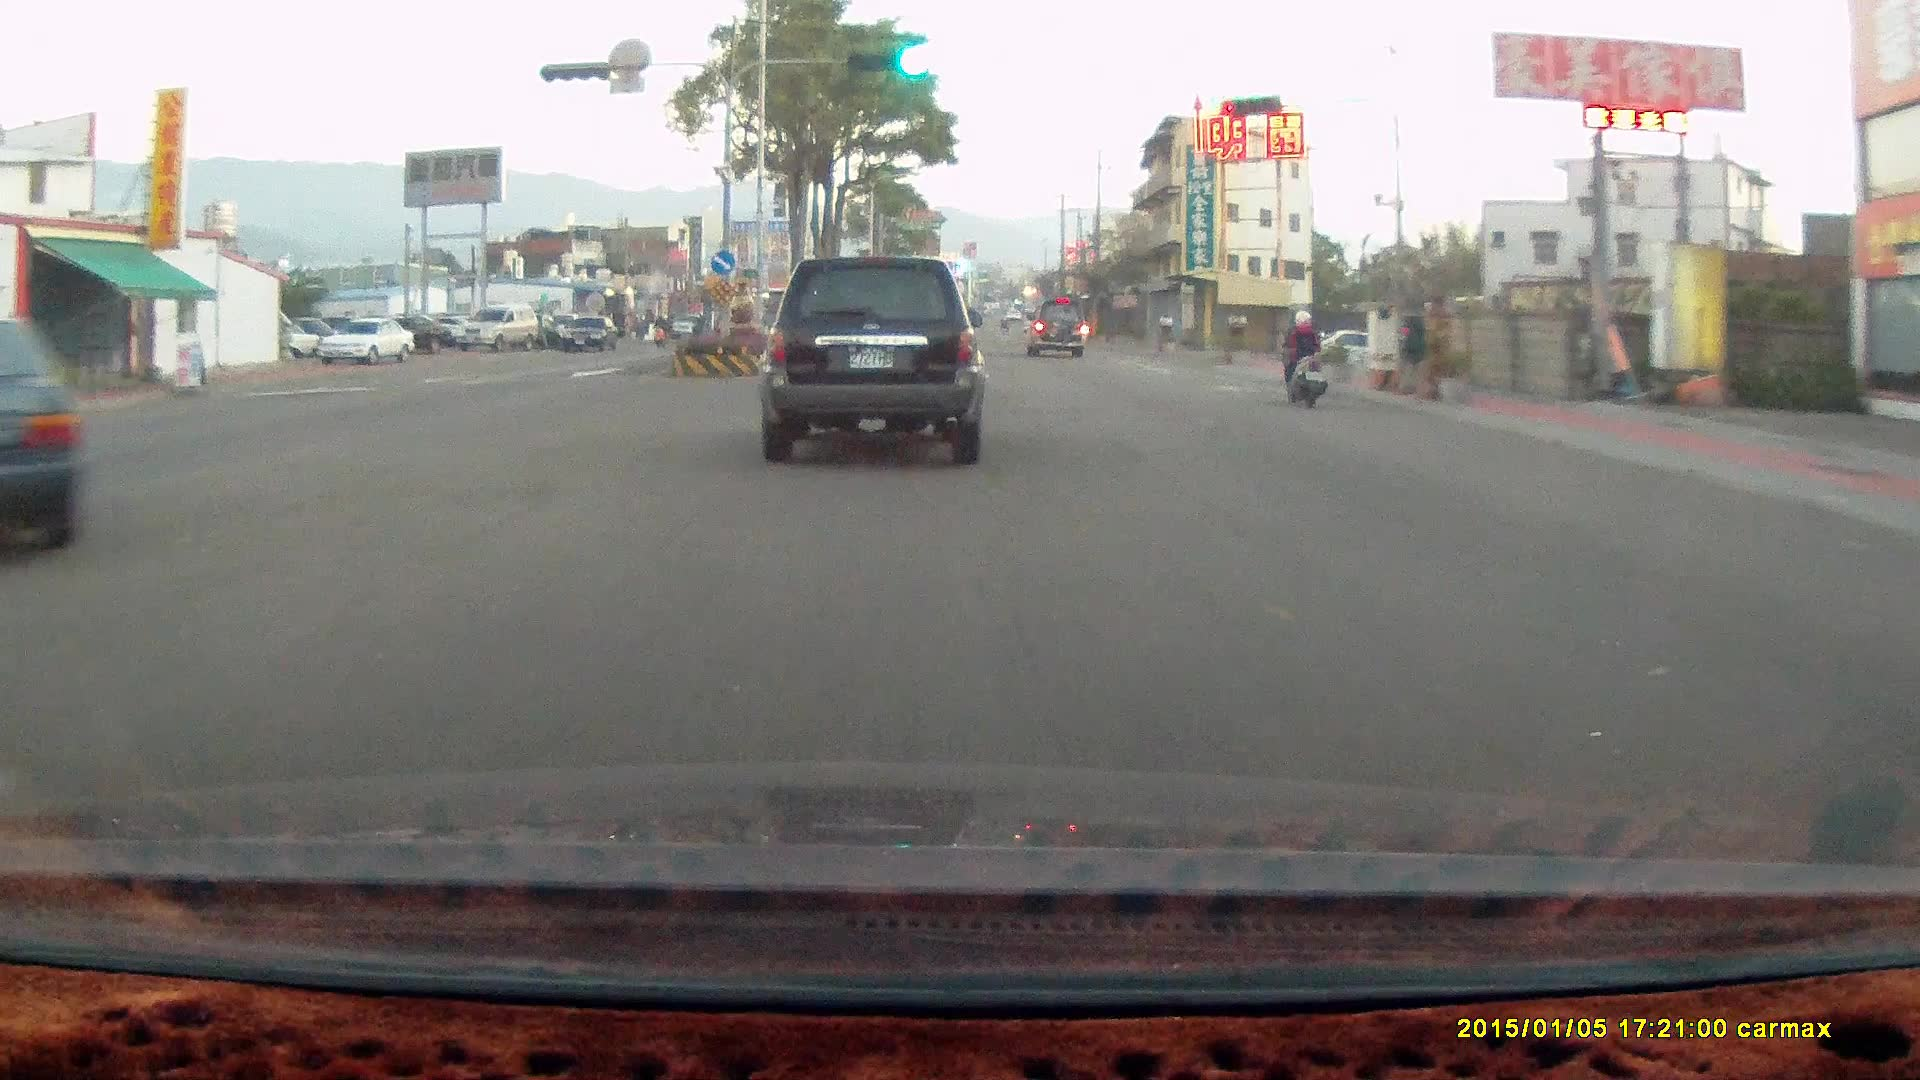rider: (1267, 297, 1338, 417), (1275, 305, 1326, 407)
vehicle: (766, 253, 996, 466), (760, 253, 985, 462), (1, 311, 96, 552), (322, 321, 419, 370), (316, 316, 414, 364), (453, 302, 540, 353), (454, 304, 541, 355), (1023, 298, 1086, 357), (1028, 299, 1088, 361), (367, 313, 450, 353), (559, 315, 620, 353)
